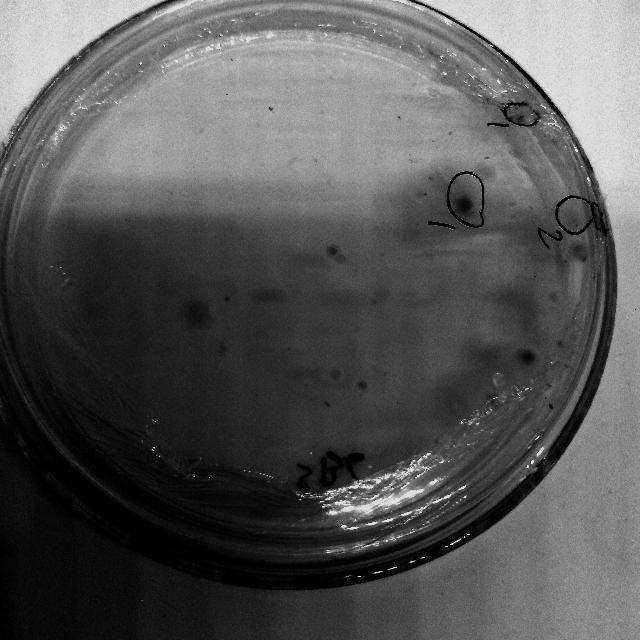colony: (176, 294, 212, 330), (556, 202, 588, 234), (448, 193, 480, 221), (566, 239, 592, 267), (478, 389, 508, 413), (409, 184, 433, 206), (474, 162, 498, 184), (518, 346, 540, 368), (542, 286, 564, 306), (324, 365, 346, 383), (551, 333, 569, 352), (324, 242, 342, 260), (539, 399, 559, 415), (356, 376, 370, 392), (332, 253, 348, 267), (264, 102, 278, 116), (221, 294, 233, 306)
